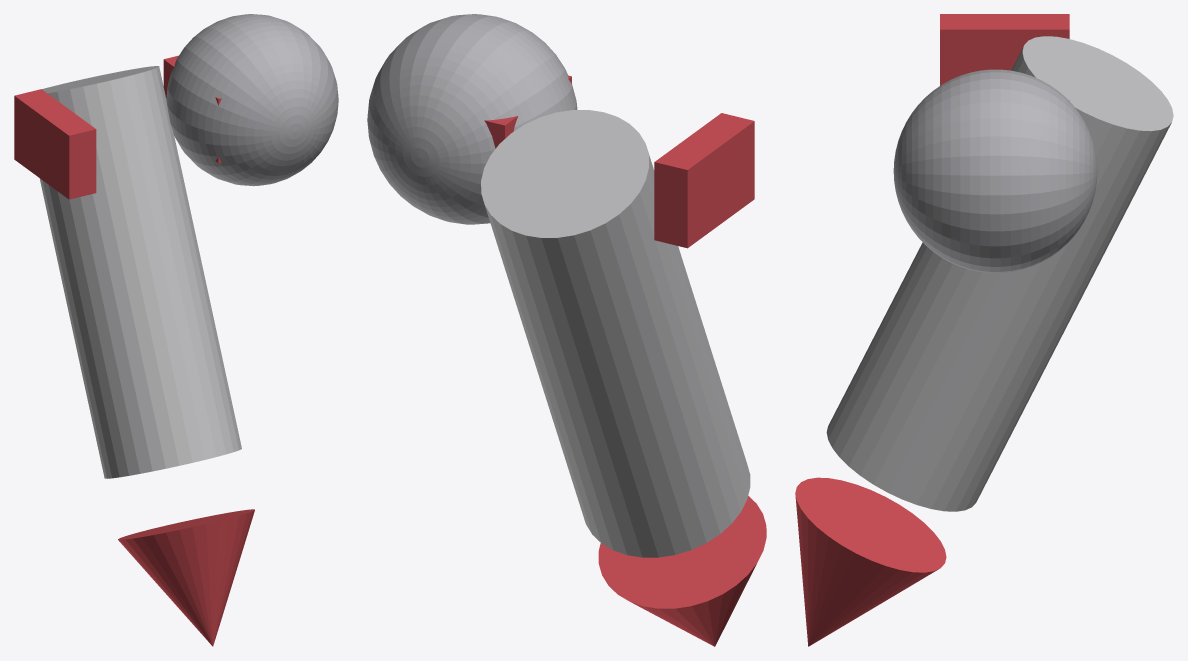
Rendered from obstacle_rocket_debris.glb.
3 renders of one model, left to right at view 1: azimuth 30°, elevation 25°; view 2: azimuth 150°, elevation 25°; view 3: azimuth 270°, elevation 25°, orthographic. The views are drawn at different scales.
Visible parts, largest first — view 1: rocket_body, smoke, nose, fin_l; view 2: rocket_body, smoke, nose, fin_l, fin_r; view 3: rocket_body, smoke, nose, fin_l.
Boxes of the visible parts, left/top/right/bottom form: rocket_body: left=39, top=66, right=241, bottom=478; smoke: left=166, top=14, right=338, bottom=186; nose: left=118, top=509, right=254, bottom=646; fin_l: left=14, top=89, right=96, bottom=199; rocket_body: left=481, top=110, right=750, bottom=557; smoke: left=367, top=14, right=577, bottom=224; nose: left=598, top=496, right=766, bottom=646; fin_l: left=654, top=113, right=754, bottom=248; fin_r: left=484, top=75, right=571, bottom=148; rocket_body: left=826, top=36, right=1173, bottom=511; smoke: left=893, top=69, right=1097, bottom=272; nose: left=795, top=477, right=946, bottom=646; fin_l: left=940, top=14, right=1069, bottom=85.
Size of the model in its own units: 0.8297 by 1.52 by 0.8165.
